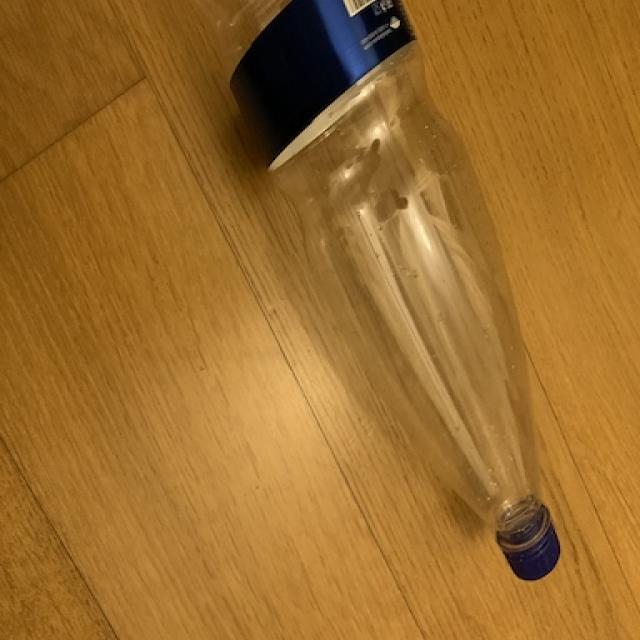Waste: (233, 0, 562, 581)
